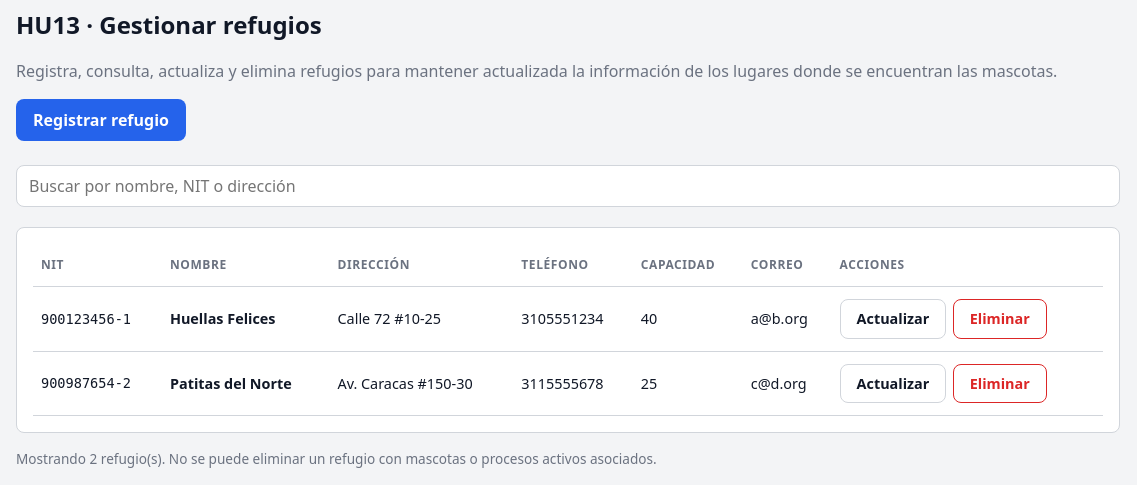
it: HU13 - ShelterManager › abre el formulario de registro al hacer clic en Registrar refugio
Expected: the text "Huellas Felices" is shown, [162,286,330,351]
Click the button "Registrar refugio": click(101, 120) [16,99,186,141]
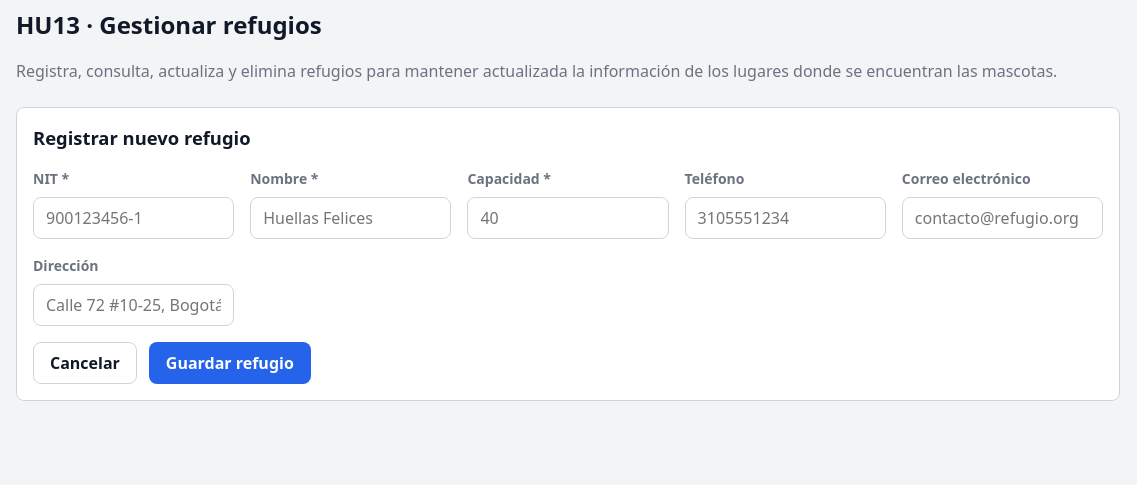
Expected: the heading "Registrar nuevo refugio" is shown, [33,125,251,150]
Expected: the field labelled "NIT *" is shown, [33,197,234,239]
Expected: the field labelled "Nombre *" is shown, [250,197,451,239]
